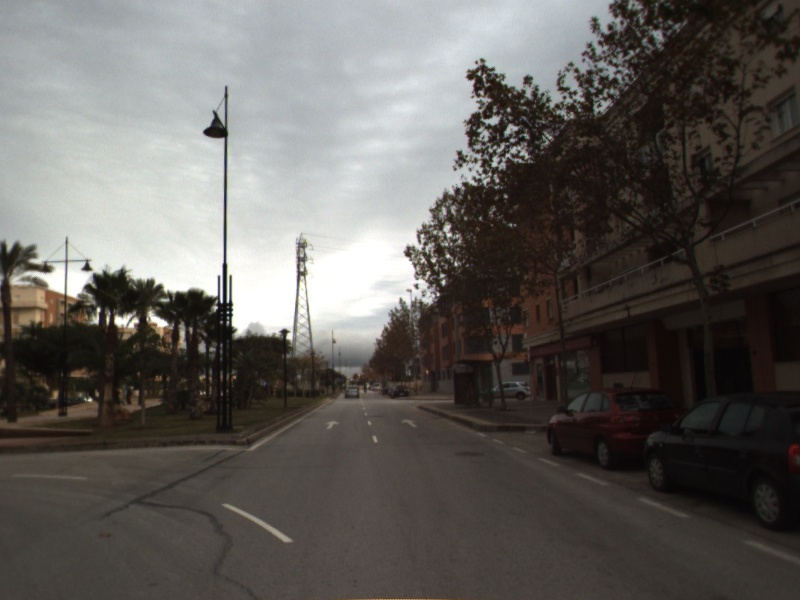STRAIGHT: (399, 416, 421, 430), (323, 418, 342, 431)
